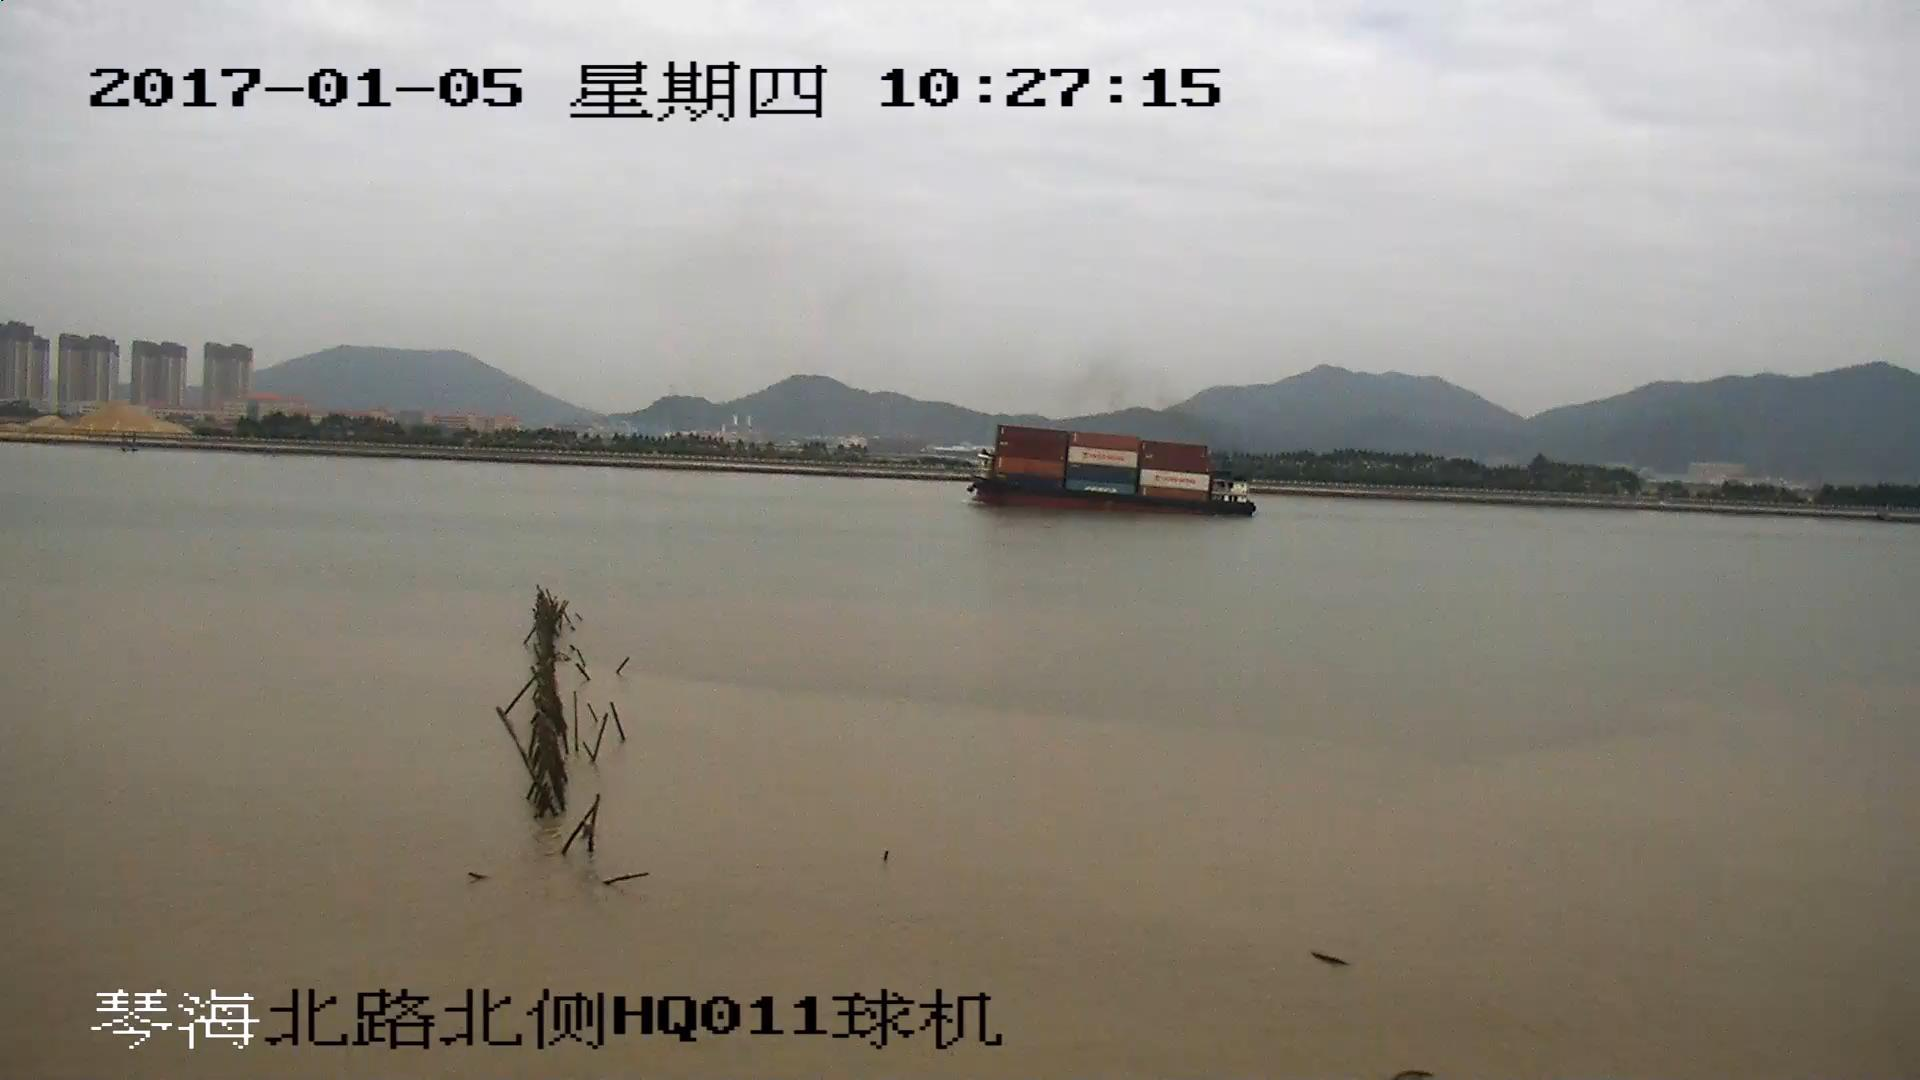Ship: (963, 430, 1250, 522)
